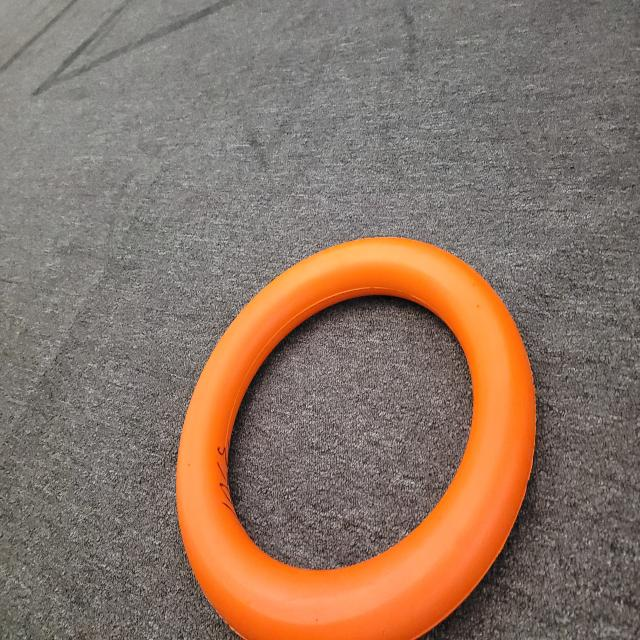note: (167, 233, 553, 640)
